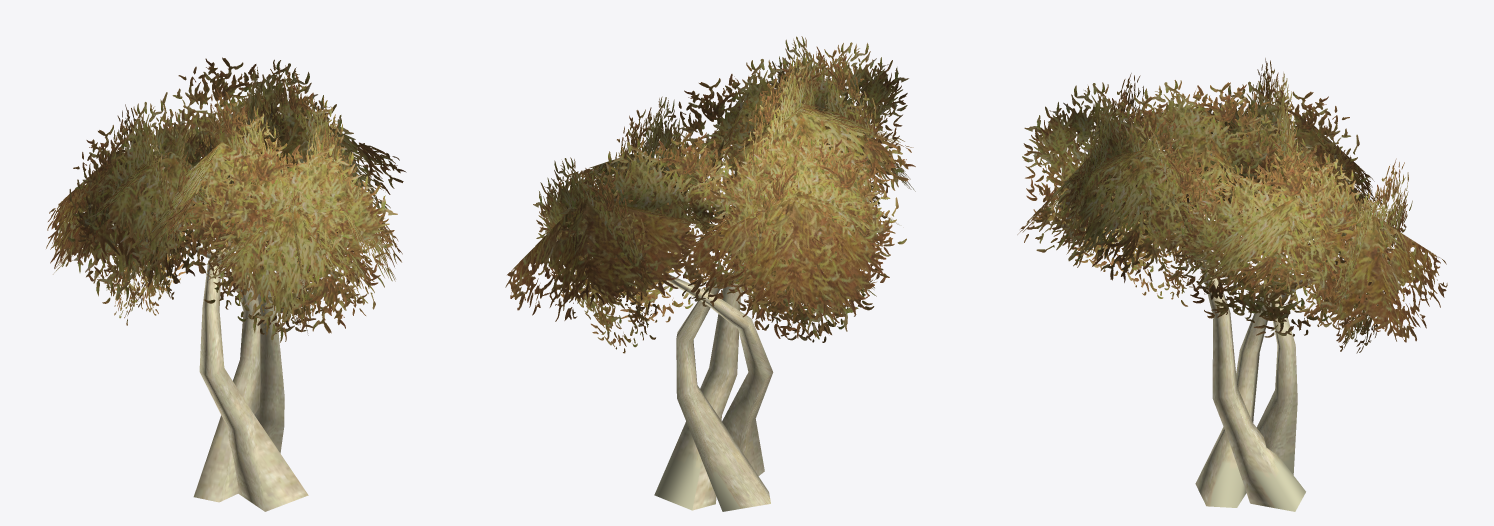
File: decd_windswept_a3_l2.fbx
The picture shows the model from 3 angles, left to right: view 1: azimuth 30°, elevation 25°; view 2: azimuth 150°, elevation 25°; view 3: azimuth 270°, elevation 25°; orthographic projection. The views are drawn at different scales.
Parts seen in each view (by area): view 1: mesh_node; view 2: mesh_node; view 3: mesh_node.
Boxes of the visible parts, x1,y1,x2,y2 form: mesh_node: [46, 57, 406, 511]; mesh_node: [505, 36, 915, 511]; mesh_node: [1017, 58, 1447, 511].
Bounding box in the file's own units: 6.18 × 6.45 × 6.75.
